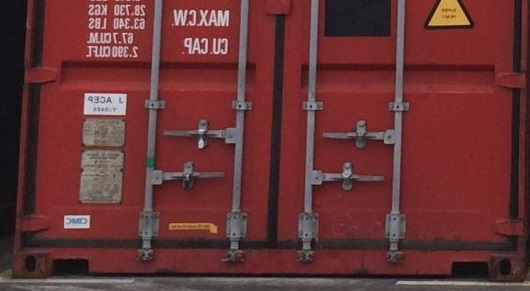container_door: (15, 1, 529, 279)
